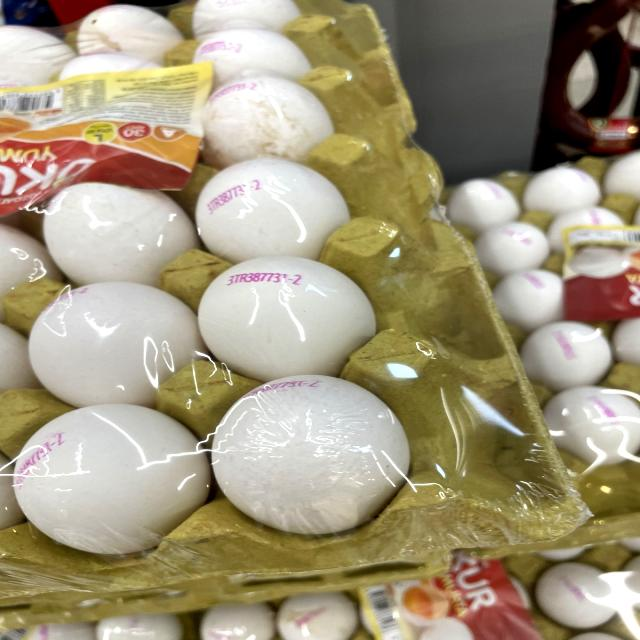egg: (200, 373, 427, 540), (7, 400, 217, 557), (189, 252, 391, 381), (18, 278, 210, 409), (192, 151, 359, 266)
